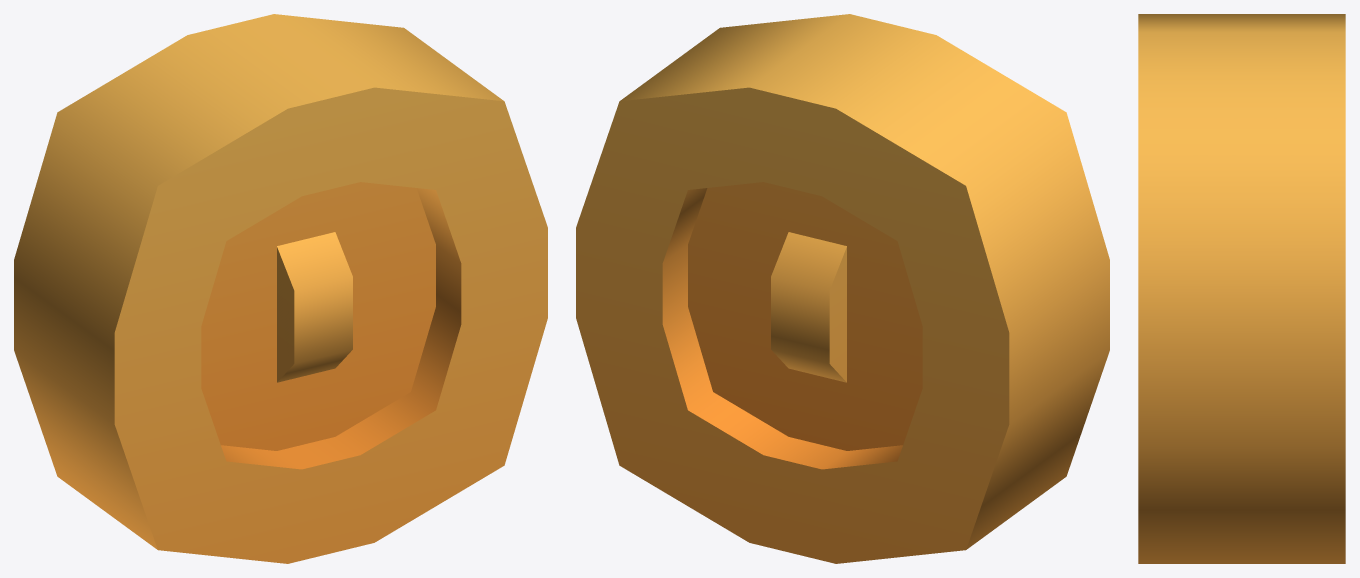
File: ken_coin.glb
3 renders of one model, left to right at view 1: azimuth 30°, elevation 25°; view 2: azimuth 150°, elevation 25°; view 3: azimuth 270°, elevation 25°, orthographic. The views are drawn at different scales.
Visible parts, largest first — view 1: coin; view 2: coin; view 3: coin.
Part boxes in pixels (x1,y1,x2,y2): coin: (14, 14, 547, 563); coin: (576, 14, 1109, 563); coin: (1138, 14, 1345, 563).
Size of the model in its own units: 0.415 by 0.4167 by 0.1667.
Materials: 1 (1 with a texture image).
